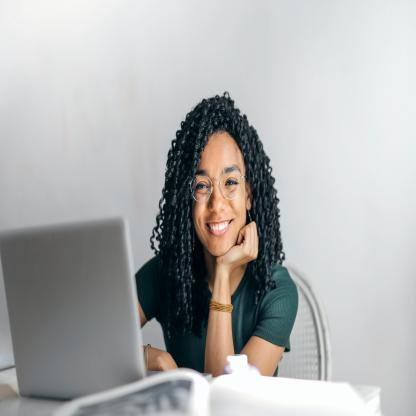Eye: (225, 177, 239, 189), (195, 181, 209, 191)
Mouth: (205, 218, 233, 236)
Nose: (209, 182, 226, 214)
